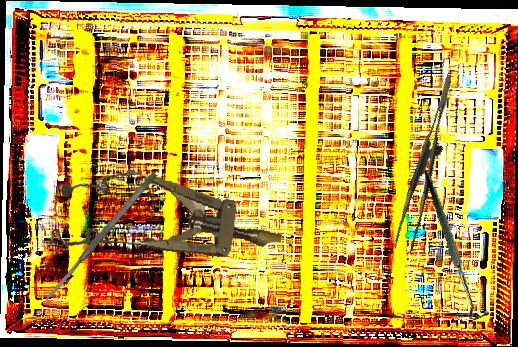Hook Surgical: (402, 171, 511, 322)
Spatula Surgical: (42, 170, 159, 303)
Speculum: (48, 159, 289, 283)
Tissue Forceps: (377, 74, 481, 254)
